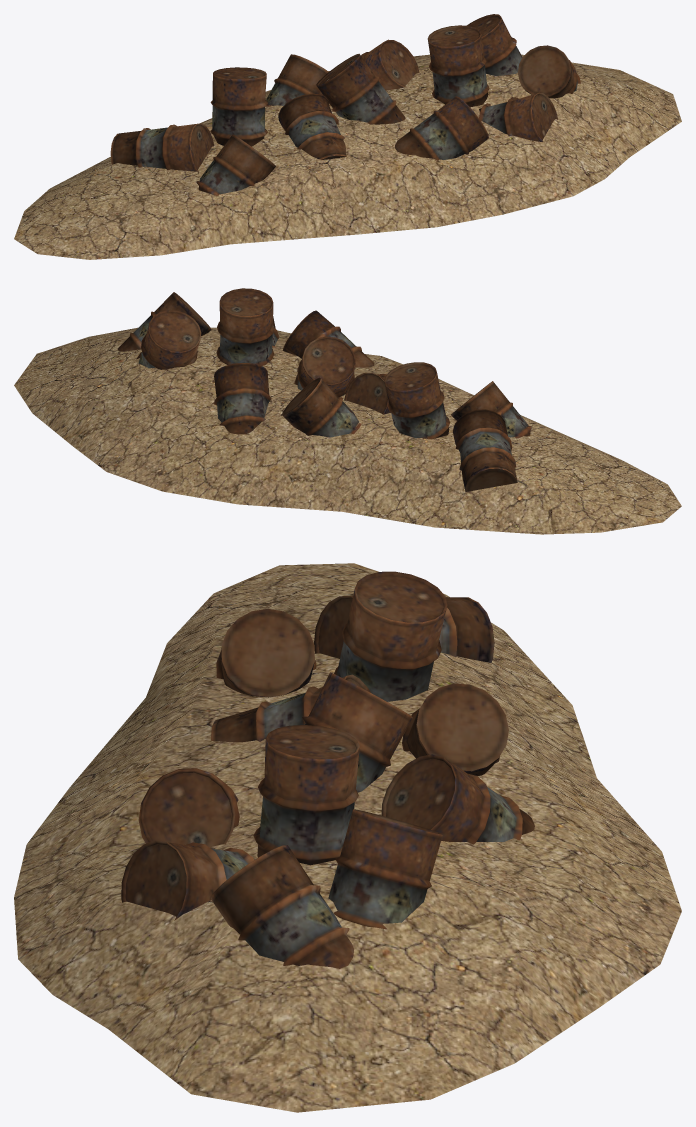
The model's file is BarrelPile.obj.
3 renders of one model, top to bottom at view 1: azimuth 30°, elevation 25°; view 2: azimuth 150°, elevation 25°; view 3: azimuth 270°, elevation 25°, orthographic. The views are drawn at different scales.
Visible parts, largest first — view 1: __PrenotatoPerDuplicare_0, __PrenotatoPerDuplicare_2; view 2: __PrenotatoPerDuplicare_0, __PrenotatoPerDuplicare_2; view 3: __PrenotatoPerDuplicare_0, __PrenotatoPerDuplicare_2.
Part boxes in pixels (x1=…): __PrenotatoPerDuplicare_0: x1=14, y1=54, x2=681, y2=259; __PrenotatoPerDuplicare_2: x1=110, y1=14, x2=580, y2=195; __PrenotatoPerDuplicare_0: x1=14, y1=327, x2=681, y2=534; __PrenotatoPerDuplicare_2: x1=118, y1=288, x2=531, y2=491; __PrenotatoPerDuplicare_0: x1=14, y1=563, x2=681, y2=1112; __PrenotatoPerDuplicare_2: x1=121, y1=571, x2=534, y2=968.
Bounding box in the file's own units: 825 × 136 × 424.
